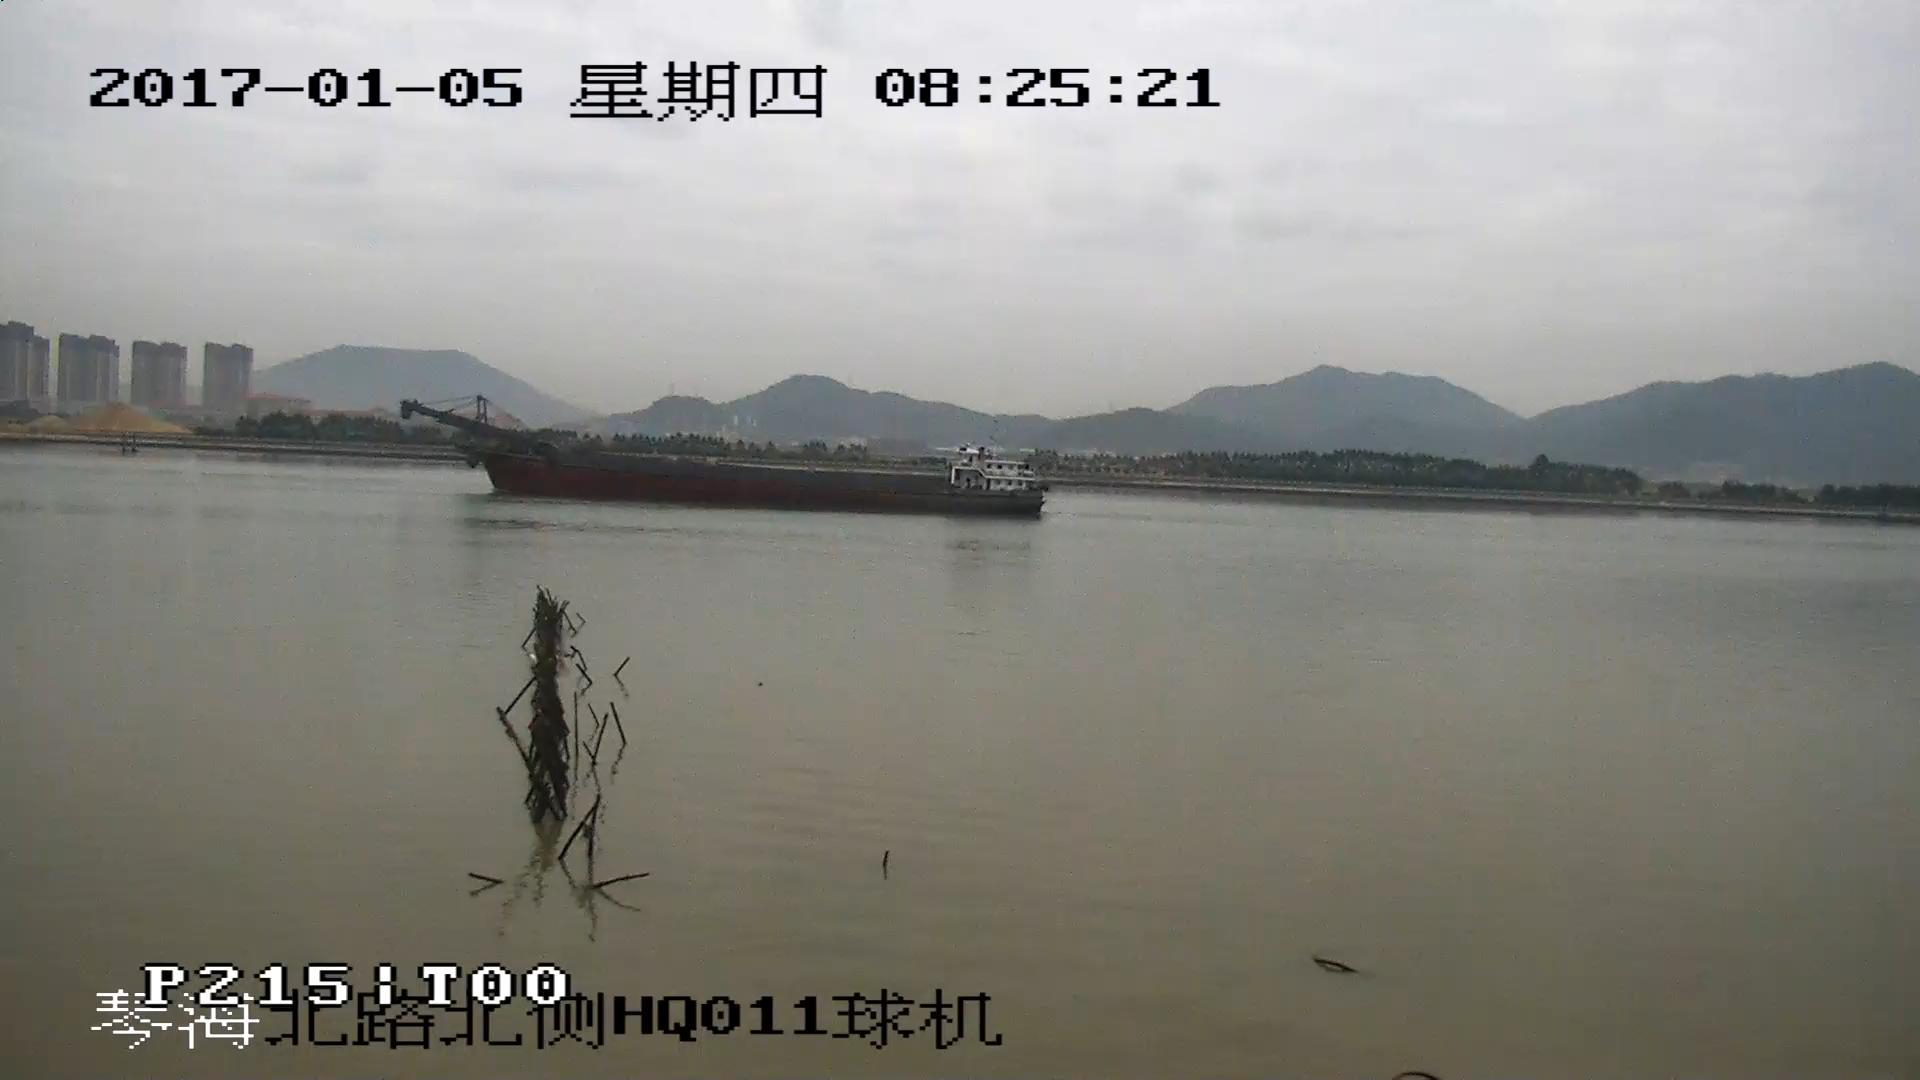Ship: (402, 397, 1044, 518)
